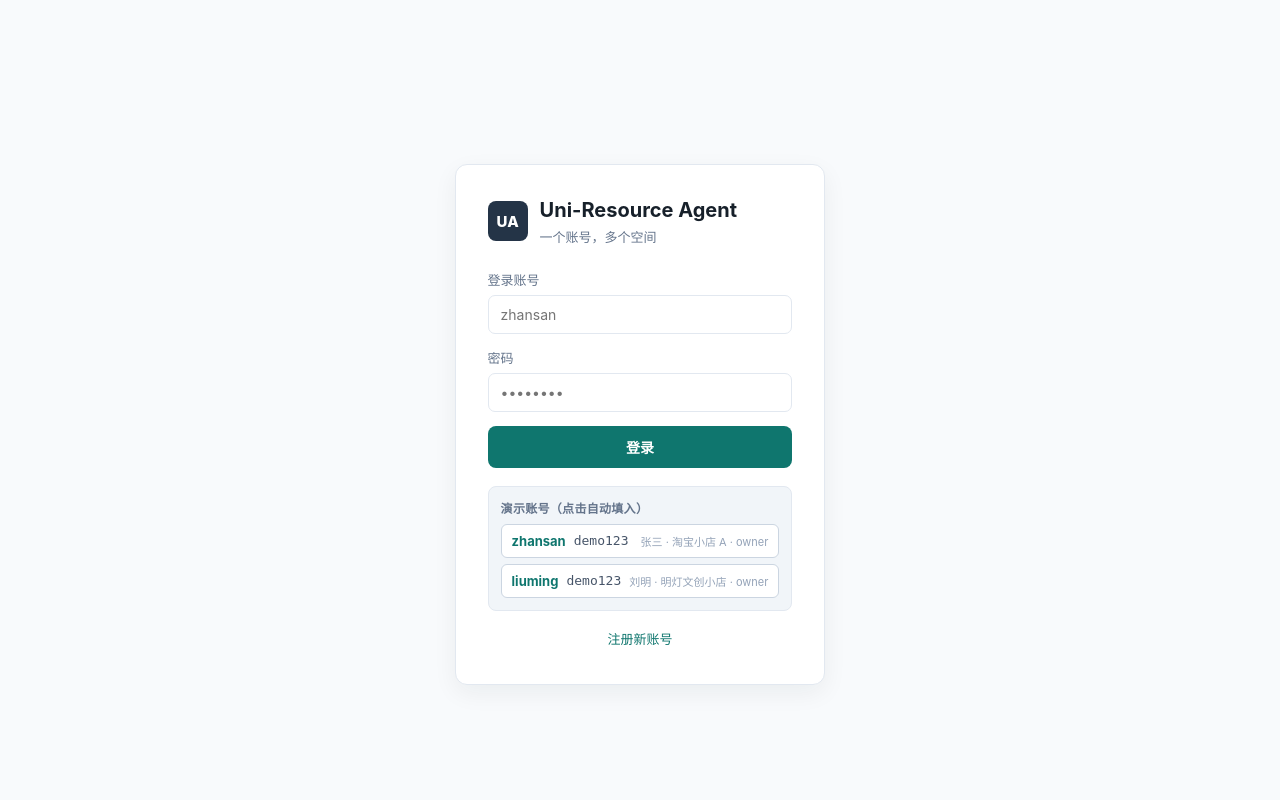
Test: App shell › navigates through Sidebar by URL-backed view keys
The image size is (1280, 800).
Type "shopkeeper" into the field with test id "login" at (640, 314), box [488, 294, 792, 334]
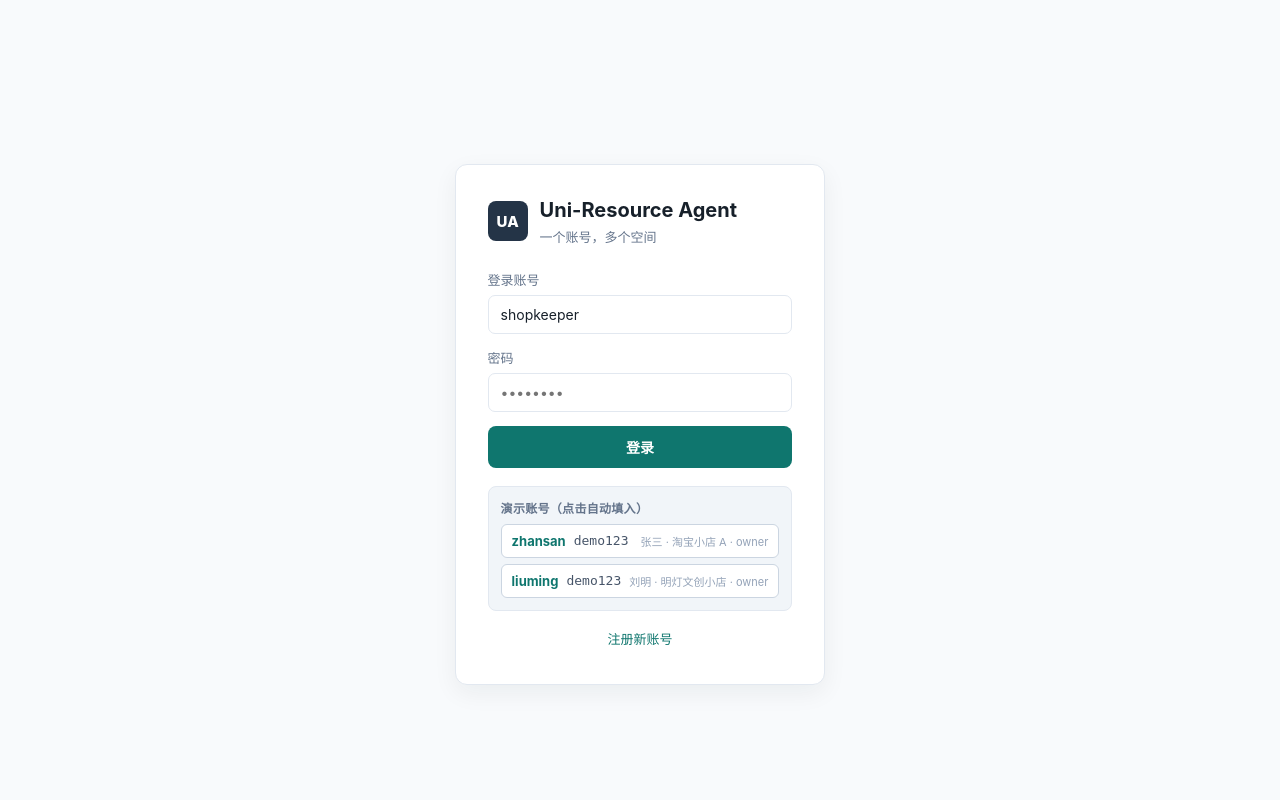
Type "pass123" into the password field with test id "password" at (640, 392), box [488, 372, 792, 412]
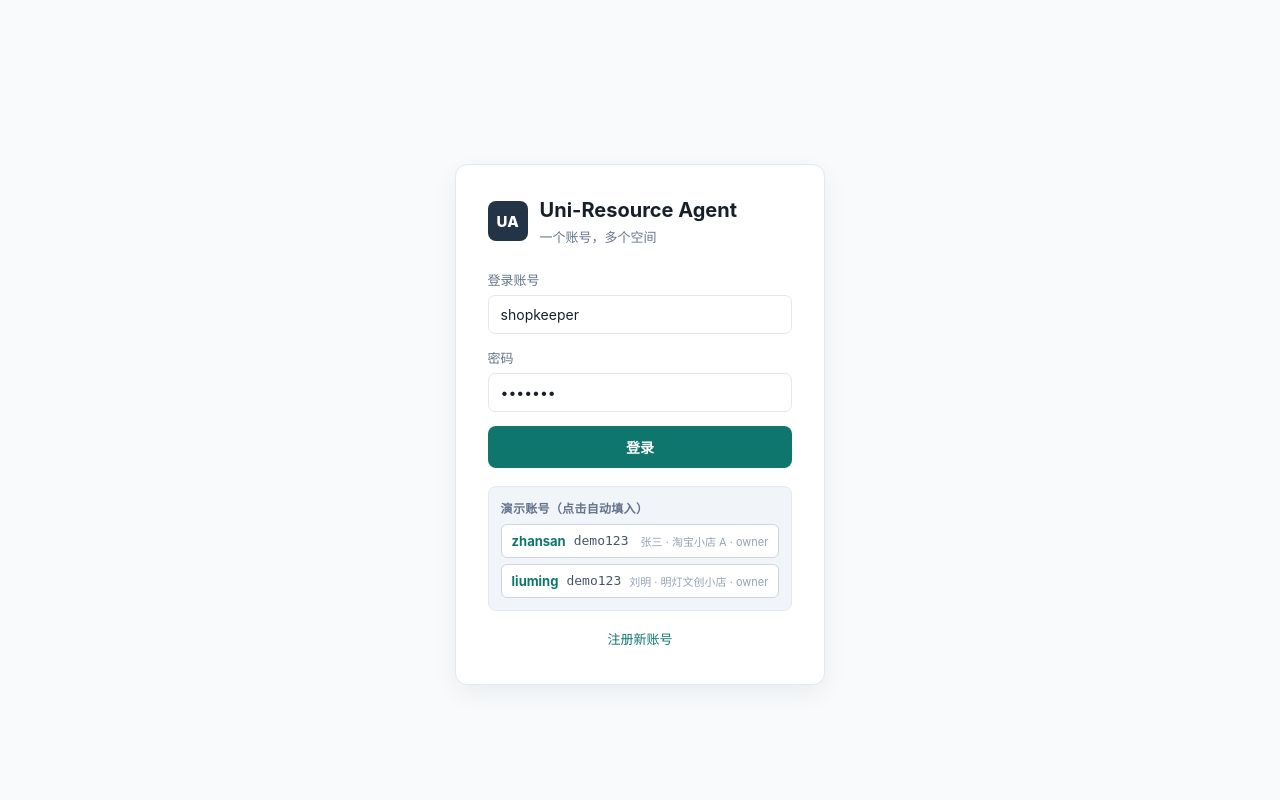
Submit the form, box [488, 270, 792, 468]
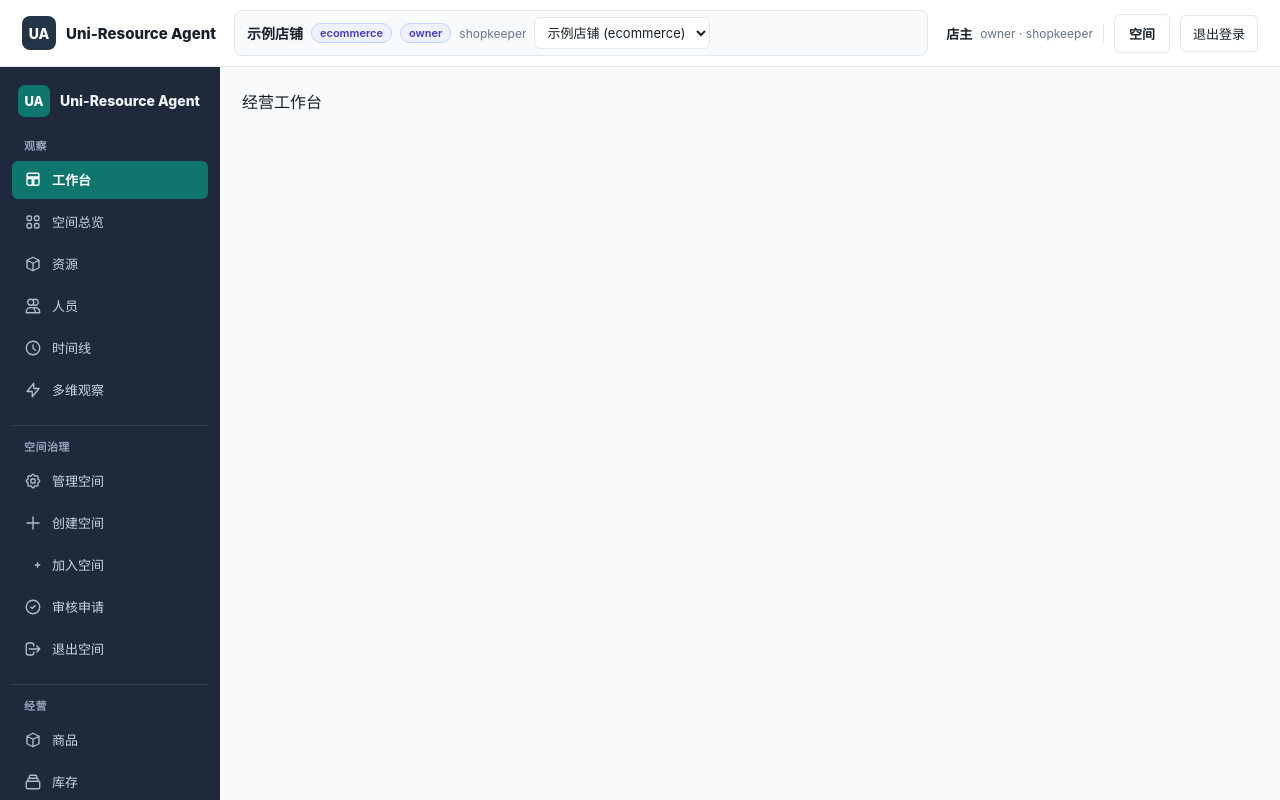
Click the button "库存" at (110, 782), box [12, 763, 208, 799]
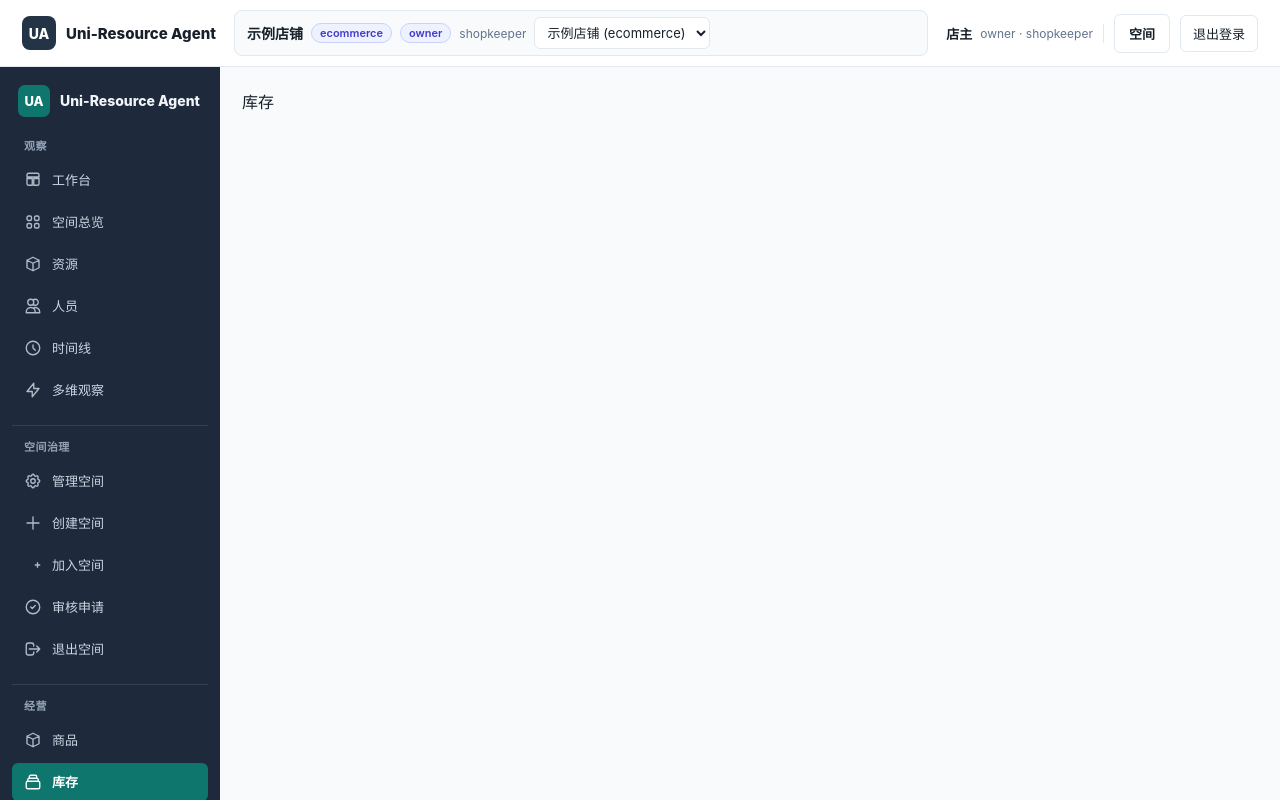
expect the text with test id "stock-view" is shown: met, box [242, 92, 274, 112]
